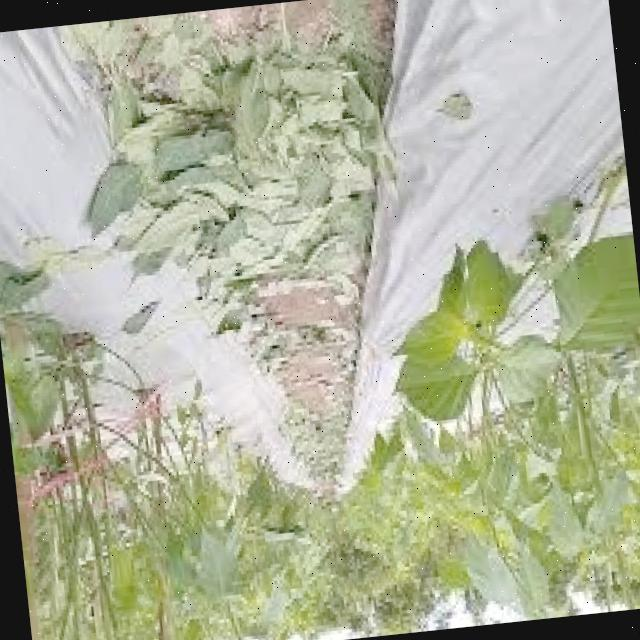healthy: (350, 210, 576, 440)
